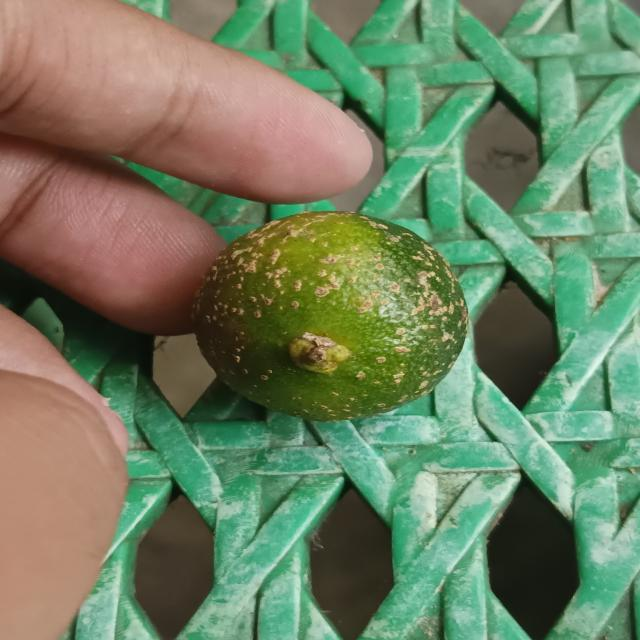scab: (188, 208, 474, 423)
